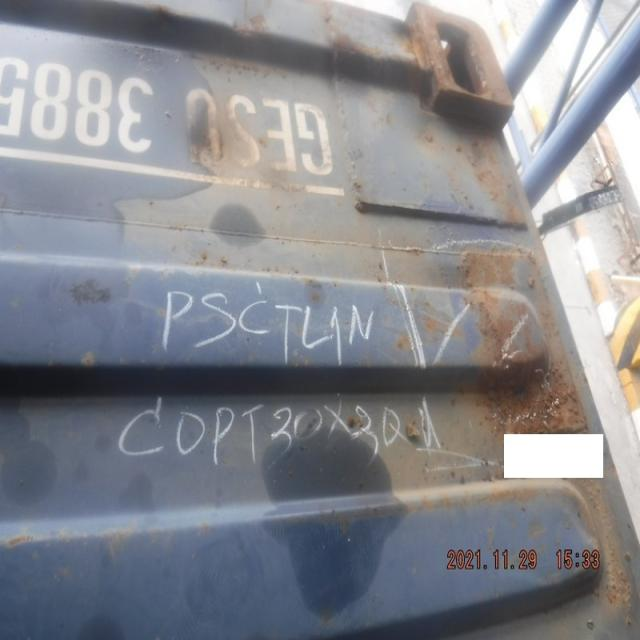hole: (496, 379, 570, 433)
